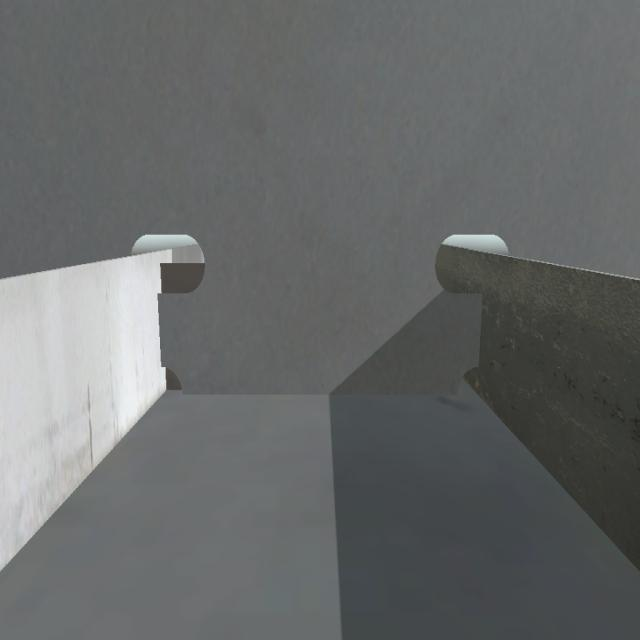fillet_hole: (154, 362, 188, 397), (452, 368, 480, 399)
fillet_yong_jeop_jang: (181, 388, 454, 402)
longi_yong_jeop_jang: (156, 267, 167, 373), (473, 296, 486, 369)
plate_behind: (158, 255, 210, 297)
